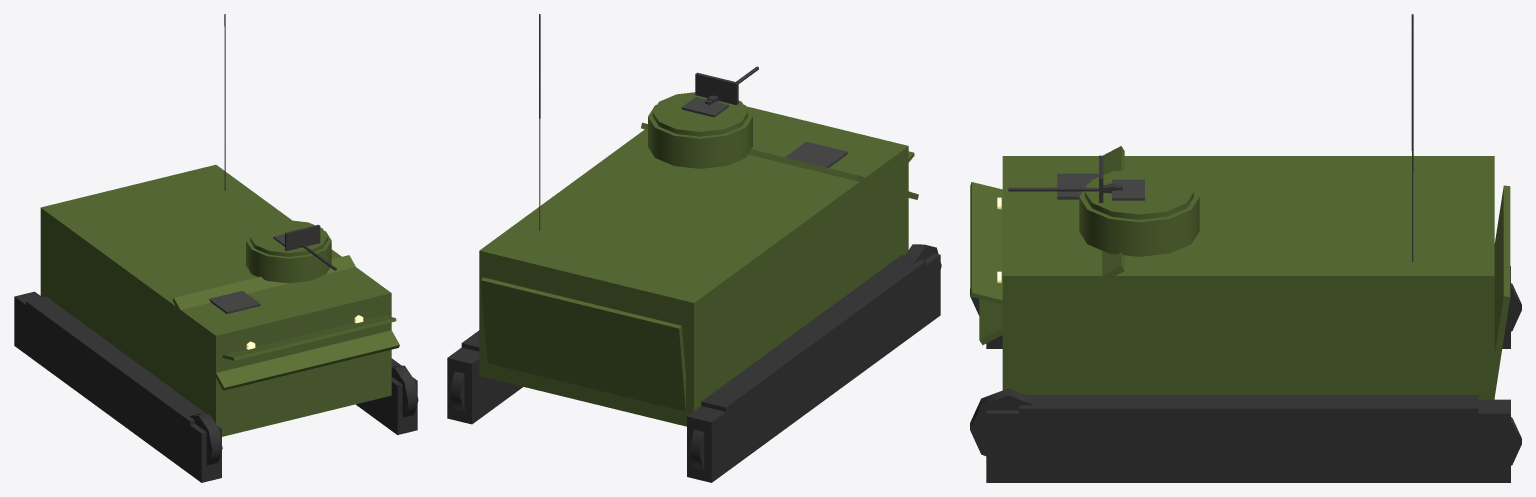
File: m113-apc.glb
3 renders of one model, left to right at view 1: azimuth 30°, elevation 25°; view 2: azimuth 150°, elevation 25°; view 3: azimuth 270°, elevation 25°, orthographic. The views are drawn at different scales.
Visible parts, largest first — view 1: Mesh_Hull, Mesh_TopDeck, Mesh_TrackLeft, Mesh_FrontGlacis, Mesh_TrackTopLeft, Mesh_CupolaBase, Mesh_TrackRight, Mesh_CupolaTop, Mesh_TrimVane, Mesh_DriveSprocketLeft, Mesh_DriveSprocketRight, Mesh_DriverHatch (+1 smaller); view 2: Mesh_TopDeck, Mesh_Hull, Mesh_RearRamp, Mesh_TrackLeft, Mesh_TrackTopLeft, Mesh_CupolaBase, Mesh_TrackRight, Mesh_CupolaTop, Mesh_FrontGlacis, Mesh_GunShield, Mesh_DriverHatch, Mesh_CupolaHatch; view 3: Mesh_Hull, Mesh_TopDeck, Mesh_TrackRight, Mesh_TrackTopRight, Mesh_CupolaBase, Mesh_TrimVane, Mesh_CupolaTop, Mesh_FrontGlacis, Mesh_RearRamp, Mesh_DriveSprocketRight, Mesh_DriverHatch, Mesh_CupolaHatch (+1 smaller).
Part boxes in pixels (x1,y1,x2,y2): Mesh_Hull: (40,211,391,436); Mesh_TopDeck: (40,164,391,339); Mesh_TrackLeft: (14,291,221,482); Mesh_FrontGlacis: (172,255,399,390); Mesh_TrackTopLeft: (26,296,205,424); Mesh_CupolaBase: (246,231,331,283); Mesh_TrackRight: (356,377,417,434); Mesh_CupolaTop: (250,220,327,256); Mesh_TrimVane: (222,315,396,360); Mesh_DriveSprocketLeft: (190,413,222,465); Mesh_DriveSprocketRight: (391,365,418,417); Mesh_DriverHatch: (209,290,260,313); Mesh_TopDeck: (479,106,908,307); Mesh_Hull: (479,150,908,426); Mesh_RearRamp: (480,277,685,411); Mesh_TrackLeft: (687,253,940,482); Mesh_TrackTopLeft: (701,255,926,411); Mesh_CupolaBase: (648,104,752,168); Mesh_TrackRight: (447,347,522,424); Mesh_CupolaTop: (652,92,747,136); Mesh_FrontGlacis: (641,122,918,199); Mesh_GunShield: (695,72,738,105); Mesh_DriverHatch: (785,141,847,167); Mesh_CupolaHatch: (681,97,728,117); Mesh_Hull: (1002,281,1494,399); Mesh_TopDeck: (1002,156,1494,281); Mesh_TrackRight: (986,399,1510,482); Mesh_TrackTopRight: (1019,395,1478,414); Mesh_CupolaBase: (1079,183,1199,256); Mesh_TrimVane: (970,182,1002,304); Mesh_CupolaTop: (1084,168,1193,219); Mesh_FrontGlacis: (979,146,1124,345); Mesh_RearRamp: (1494,185,1510,396); Mesh_DriveSprocketRight: (970,388,1034,455); Mesh_DriverHatch: (1057,173,1106,199); Mesh_CupolaHatch: (1112,179,1144,200).
Bounding box in the file's own units: 3.2 × 4.45 × 5.05.
